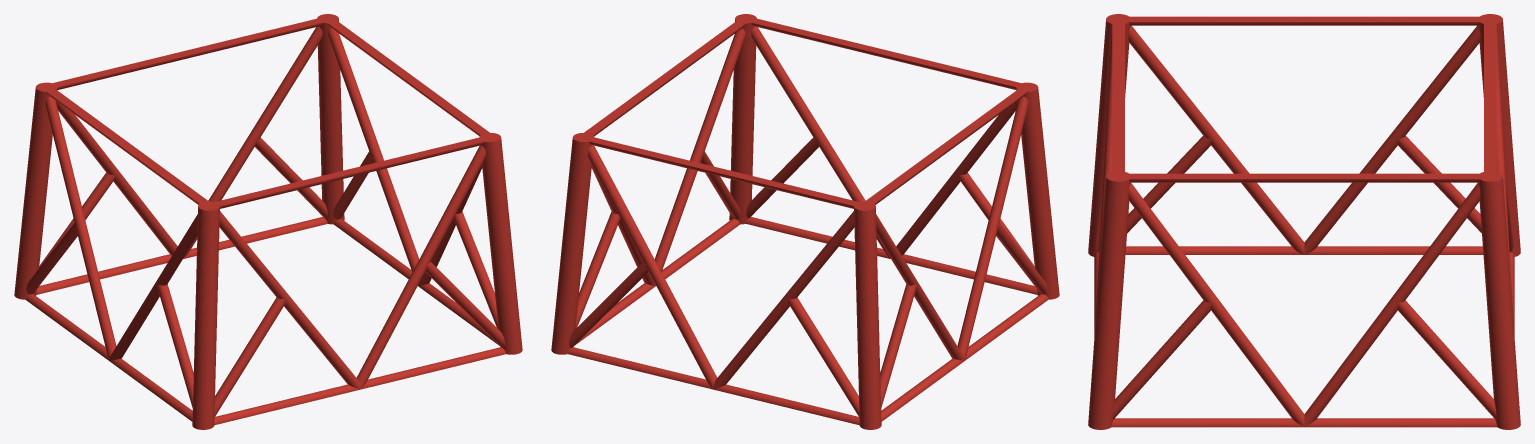
3 views of the same model, side by side, from view 1: azimuth 30°, elevation 25°; view 2: azimuth 150°, elevation 25°; view 3: azimuth 270°, elevation 25° (orthographic). The views are drawn at different scales.
Parts seen in each view (by area): view 1: H14-H15; view 2: H14-H15; view 3: H14-H15.
Boxes of the visible parts, box(x1,y1,x2,y2) form: H14-H15: box(14, 14, 522, 429); H14-H15: box(551, 14, 1059, 429); H14-H15: box(1088, 14, 1520, 429).
Size of the model in its own units: 17.27 by 10.6 by 17.27.
